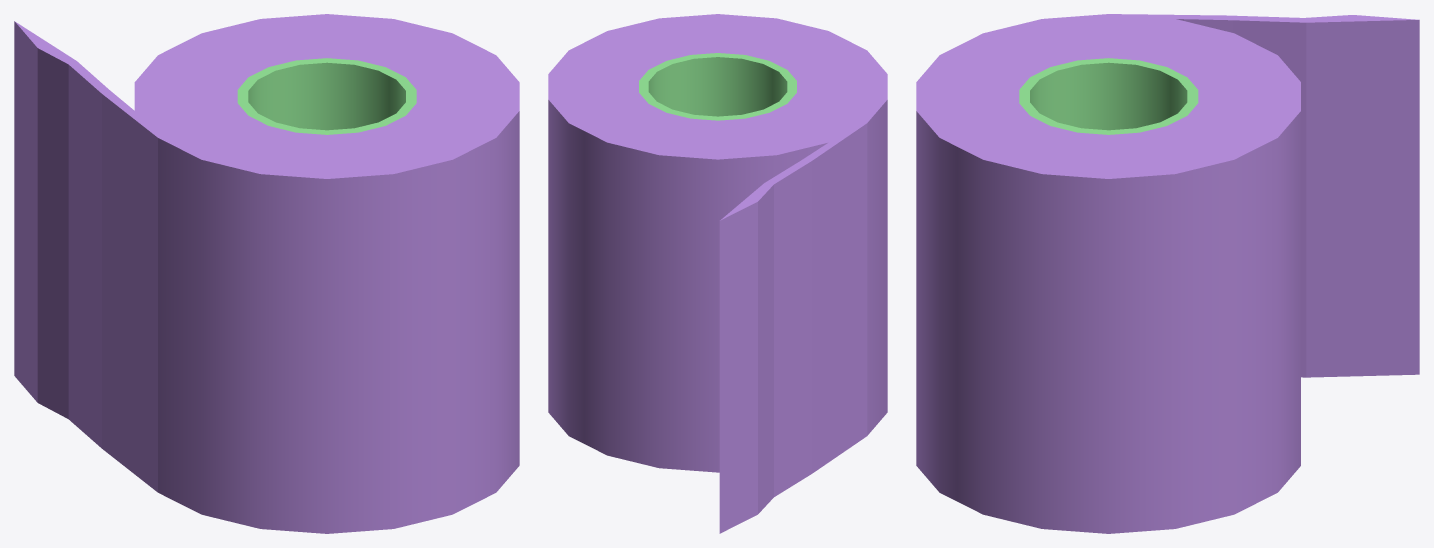
The picture shows the model from 3 angles, left to right: view 1: azimuth 30°, elevation 25°; view 2: azimuth 150°, elevation 25°; view 3: azimuth 270°, elevation 25°; orthographic projection. The views are drawn at different scales.
Parts seen in each view (by area): view 1: pq; view 2: pq; view 3: pq.
Boxes of the visible parts, x1,y1,x2,y2 form: pq: [14, 14, 519, 533]; pq: [548, 14, 887, 533]; pq: [916, 14, 1419, 533].
Bounding box in the file's own units: 0.7855 × 0.7874 × 1.01.
